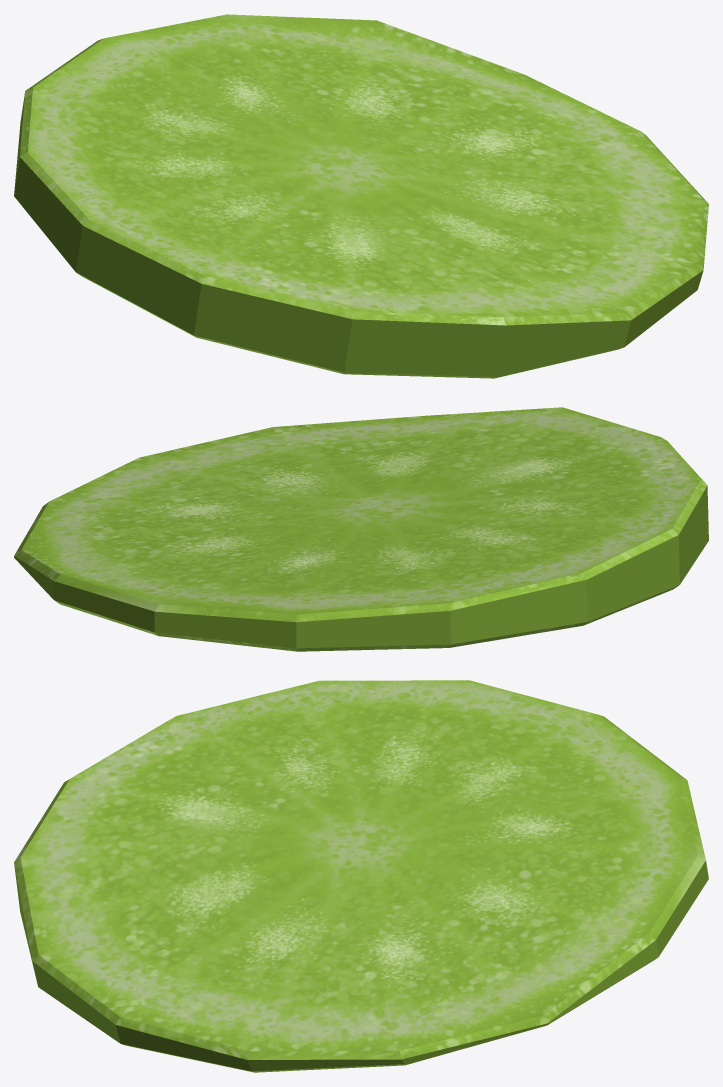
The model's file is cucumber_slice.fbx.
3 views of the same model, one above another, from view 1: azimuth 30°, elevation 25°; view 2: azimuth 150°, elevation 25°; view 3: azimuth 270°, elevation 25° (orthographic).
Visible parts, largest first — view 1: Circle.003; view 2: Circle.003; view 3: Circle.003.
Boxes of the visible parts, bbox=[...] form: Circle.003: bbox=[14, 14, 708, 378]; Circle.003: bbox=[14, 407, 708, 651]; Circle.003: bbox=[14, 680, 708, 1072].
Size of the model in its own units: 45.01 by 9.37 by 45.11.
